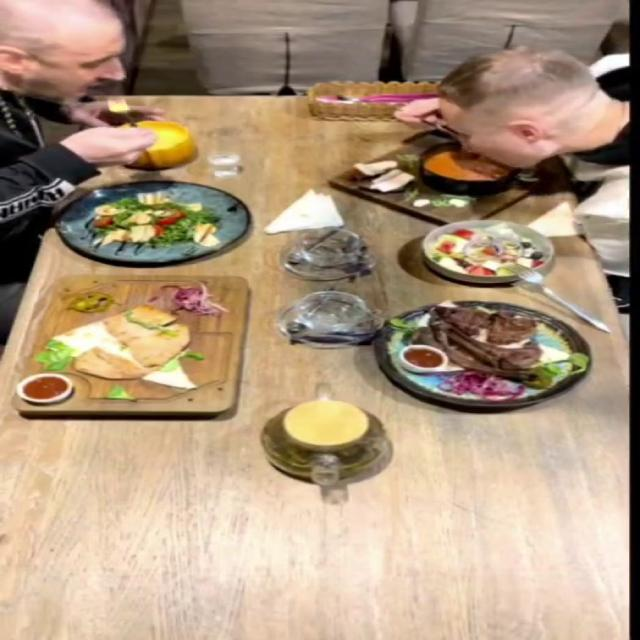meat: (371, 299, 591, 408)
salat: (53, 181, 249, 265), (421, 219, 556, 284)
soup: (329, 136, 569, 226), (115, 121, 198, 168)
tea: (283, 398, 369, 446)
